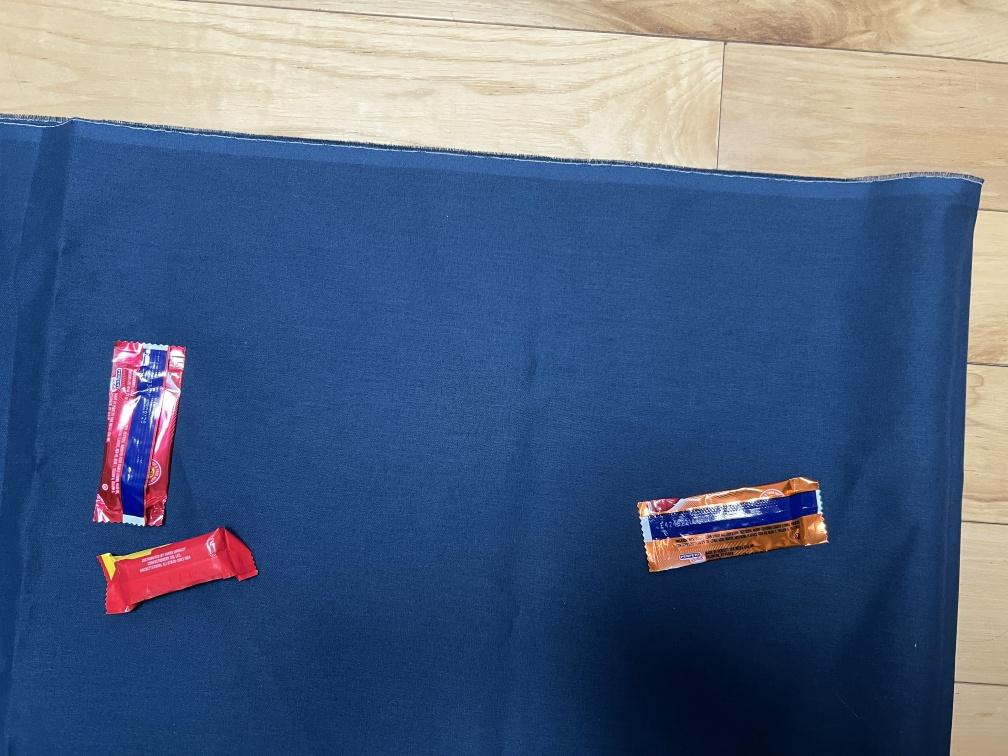airheads: (616, 444, 844, 592), (86, 332, 197, 537)
starburst: (81, 520, 271, 620)
